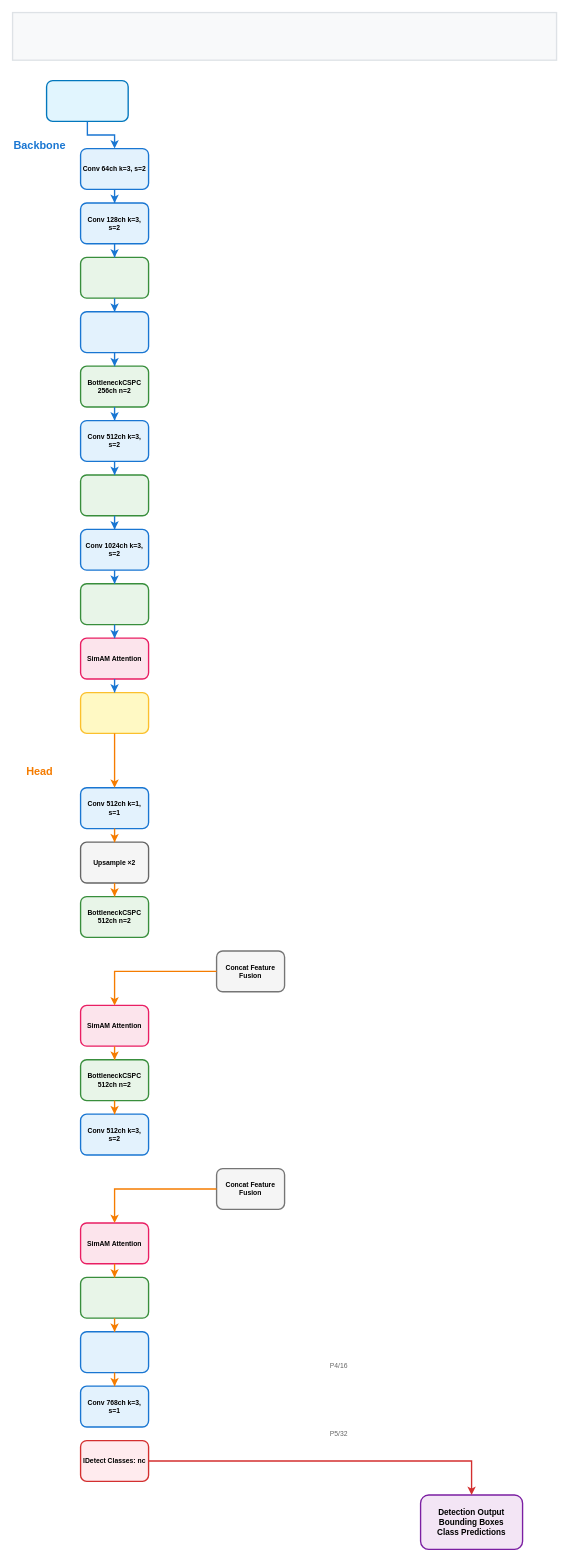
Image size: 568x1561. Some labels were removed from this diagram. Each missing label, with the centre of its shape:
"BottleneckCSPC 1024ch n=2" goes at (x=114, y=604).
"BottleneckCSPC 128ch n=2" goes at (x=114, y=277).
"BottleneckCSPC 512ch n=4" goes at (x=114, y=495).
"BottleneckCSPC 768ch n=2" goes at (x=114, y=1297).
"Conv 256ch k=3, s=2" goes at (x=114, y=332).
"Conv 512ch k=3, s=1" goes at (x=114, y=1352).
"Input Image 640×640×3" goes at (x=87, y=101).
"SPPF 1024ch k=5" goes at (x=114, y=713).
"YOLOv4-SimAM CSP Backbone + SimAM Attention Mechanism" goes at (x=284, y=36).
